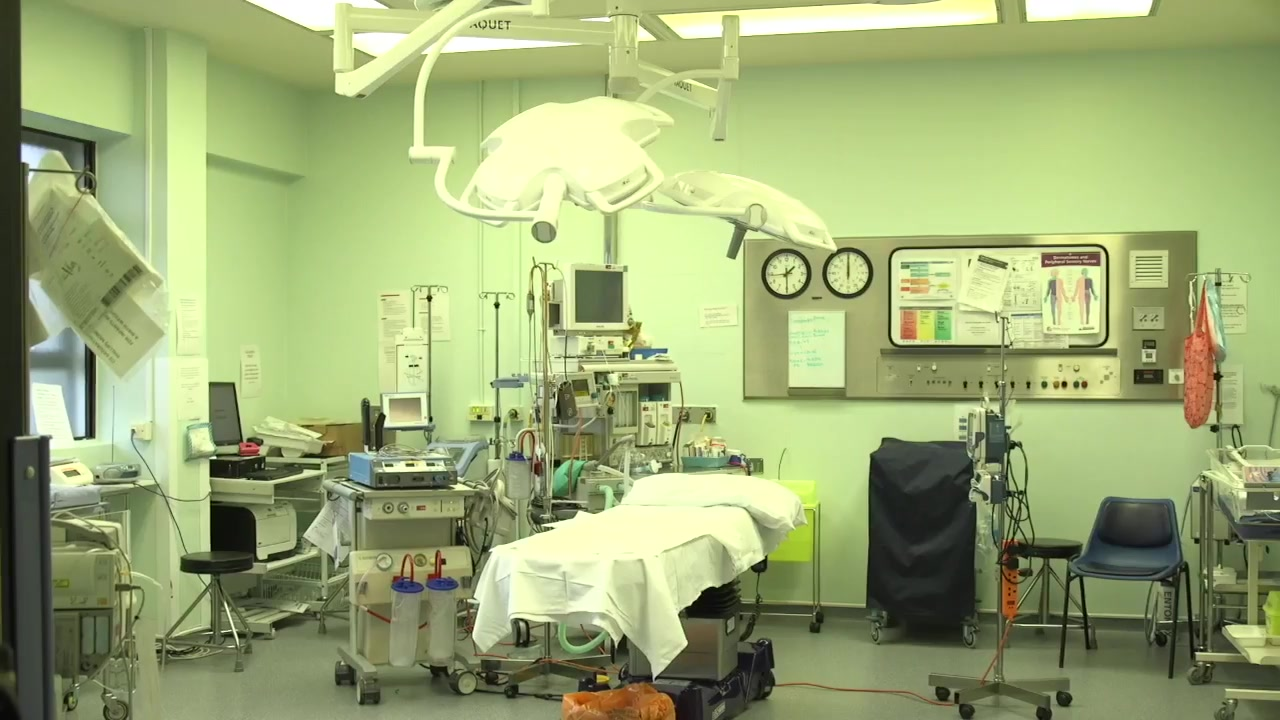bedside_monitor: (552, 263, 632, 333), (380, 392, 429, 429)
breathing_tube: (597, 434, 639, 509)
chair: (1058, 496, 1196, 679), (160, 551, 254, 673), (1004, 537, 1098, 650)
computer: (209, 381, 243, 446)
electrosurgical_unit: (349, 452, 458, 490)
iv_pole: (21, 158, 97, 440), (1183, 267, 1253, 448), (990, 313, 1019, 681), (528, 254, 563, 516), (410, 285, 449, 446), (479, 290, 515, 459)
keyboard: (246, 467, 303, 481)
operating_bed: (472, 472, 808, 720)
surgical_light: (460, 95, 674, 228), (659, 170, 838, 259)
utility_cart: (327, 480, 474, 708), (1191, 450, 1280, 720), (739, 499, 822, 634)
